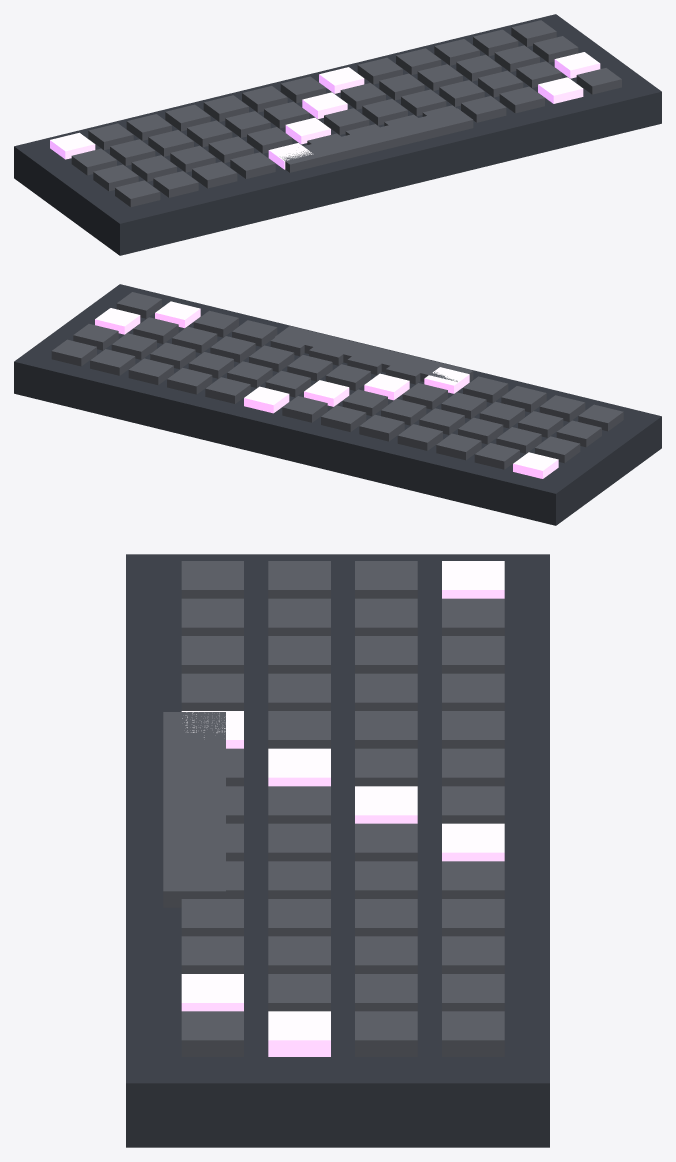
Rendered from keyboard.glb.
The picture shows the model from 3 angles, top to bottom: view 1: azimuth 30°, elevation 25°; view 2: azimuth 150°, elevation 25°; view 3: azimuth 270°, elevation 25°; orthographic projection. The views are drawn at different scales.
Parts seen in each view (by area): view 1: KeyboardBody, Spacebar, Key_3_0, Key_3_1, Key_3_2, Key_3_3, Key_3_10, Key_3_11, Key_3_12, Key_3_9, Key_2_12, Key_1_0 (+41 smaller); view 2: KeyboardBody, Spacebar, Key_0_2, Key_0_7, Key_0_8, Key_0_1, Key_0_3, Key_0_4, Key_0_9, Key_0_11, Key_0_12, Key_0_0 (+42 smaller); view 3: KeyboardBody, Spacebar, Key_0_12, Key_1_12, Key_2_12, Key_3_12, Key_0_5, Key_0_7, Key_1_5, Key_1_7, Key_2_5, Key_2_7 (+39 smaller).
Boxes of the visible parts, x1,y1,x2,y2 form: KeyboardBody: [14, 14, 661, 255]; Spacebar: [282, 108, 473, 172]; Key_3_0: [115, 180, 160, 207]; Key_3_1: [153, 171, 198, 197]; Key_3_2: [192, 161, 237, 188]; Key_3_3: [230, 152, 275, 178]; Key_3_10: [499, 86, 544, 113]; Key_3_11: [538, 77, 583, 103]; Key_3_12: [576, 68, 621, 94]; Key_3_9: [461, 96, 506, 122]; Key_2_12: [554, 52, 600, 78]; Key_1_0: [71, 148, 116, 175]; KeyboardBody: [14, 284, 661, 525]; Spacebar: [274, 326, 473, 381]; Key_0_2: [436, 433, 481, 460]; Key_0_7: [244, 386, 289, 413]; Key_0_8: [205, 377, 250, 403]; Key_0_1: [474, 443, 519, 469]; Key_0_3: [397, 424, 442, 450]; Key_0_4: [359, 414, 404, 441]; Key_0_9: [167, 368, 212, 394]; Key_0_11: [90, 349, 135, 375]; Key_0_12: [51, 339, 96, 366]; Key_0_0: [513, 452, 558, 478]; KeyboardBody: [126, 554, 549, 1147]; Spacebar: [163, 712, 225, 907]; Key_0_12: [442, 1011, 504, 1056]; Key_1_12: [355, 1011, 417, 1056]; Key_2_12: [268, 1011, 330, 1056]; Key_3_12: [181, 1011, 243, 1056]; Key_0_5: [442, 748, 504, 786]; Key_0_7: [442, 823, 504, 861]; Key_1_5: [355, 748, 417, 786]; Key_1_7: [355, 823, 417, 861]; Key_2_5: [268, 748, 330, 786]; Key_2_7: [268, 823, 330, 861].
Size of the model in its own units: 0.62 by 0.0445 by 0.21.
